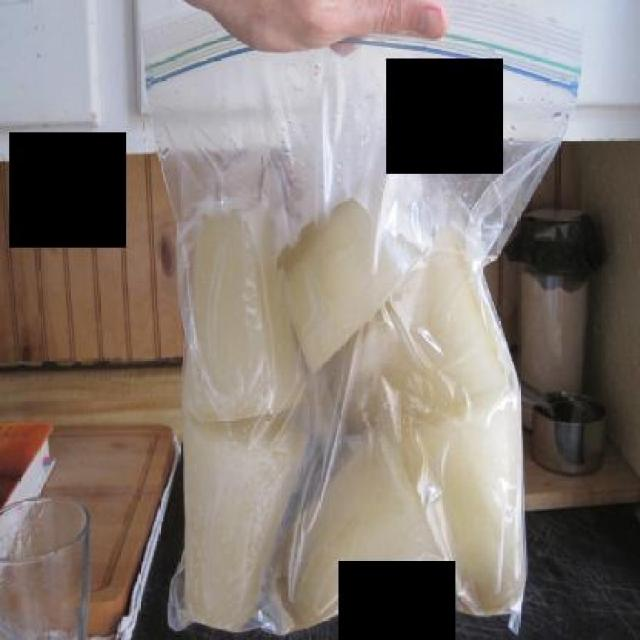plastic bag: (135, 0, 588, 631)
